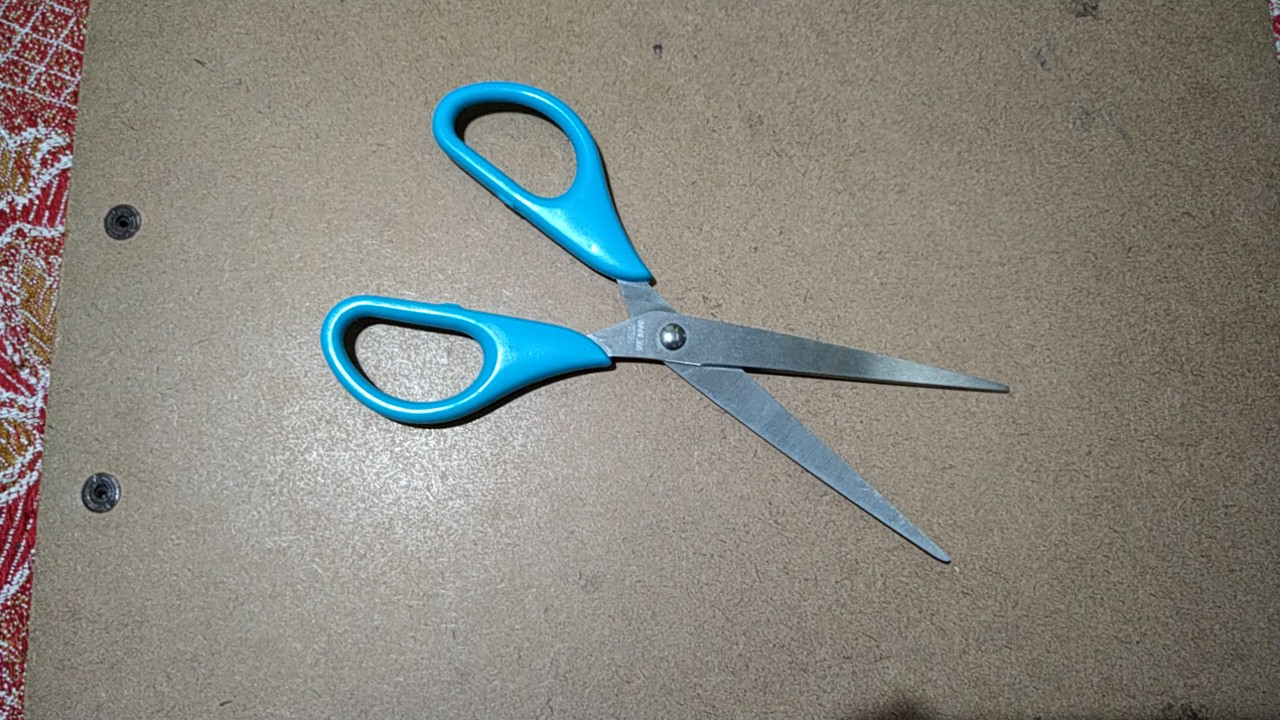scissor: (312, 66, 1017, 590)
